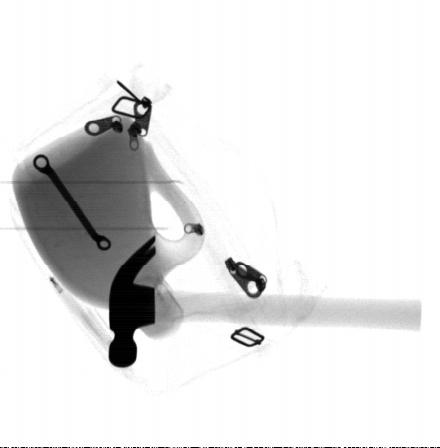Hammer: (108, 235, 421, 367)
Wrench: (33, 154, 111, 251)
